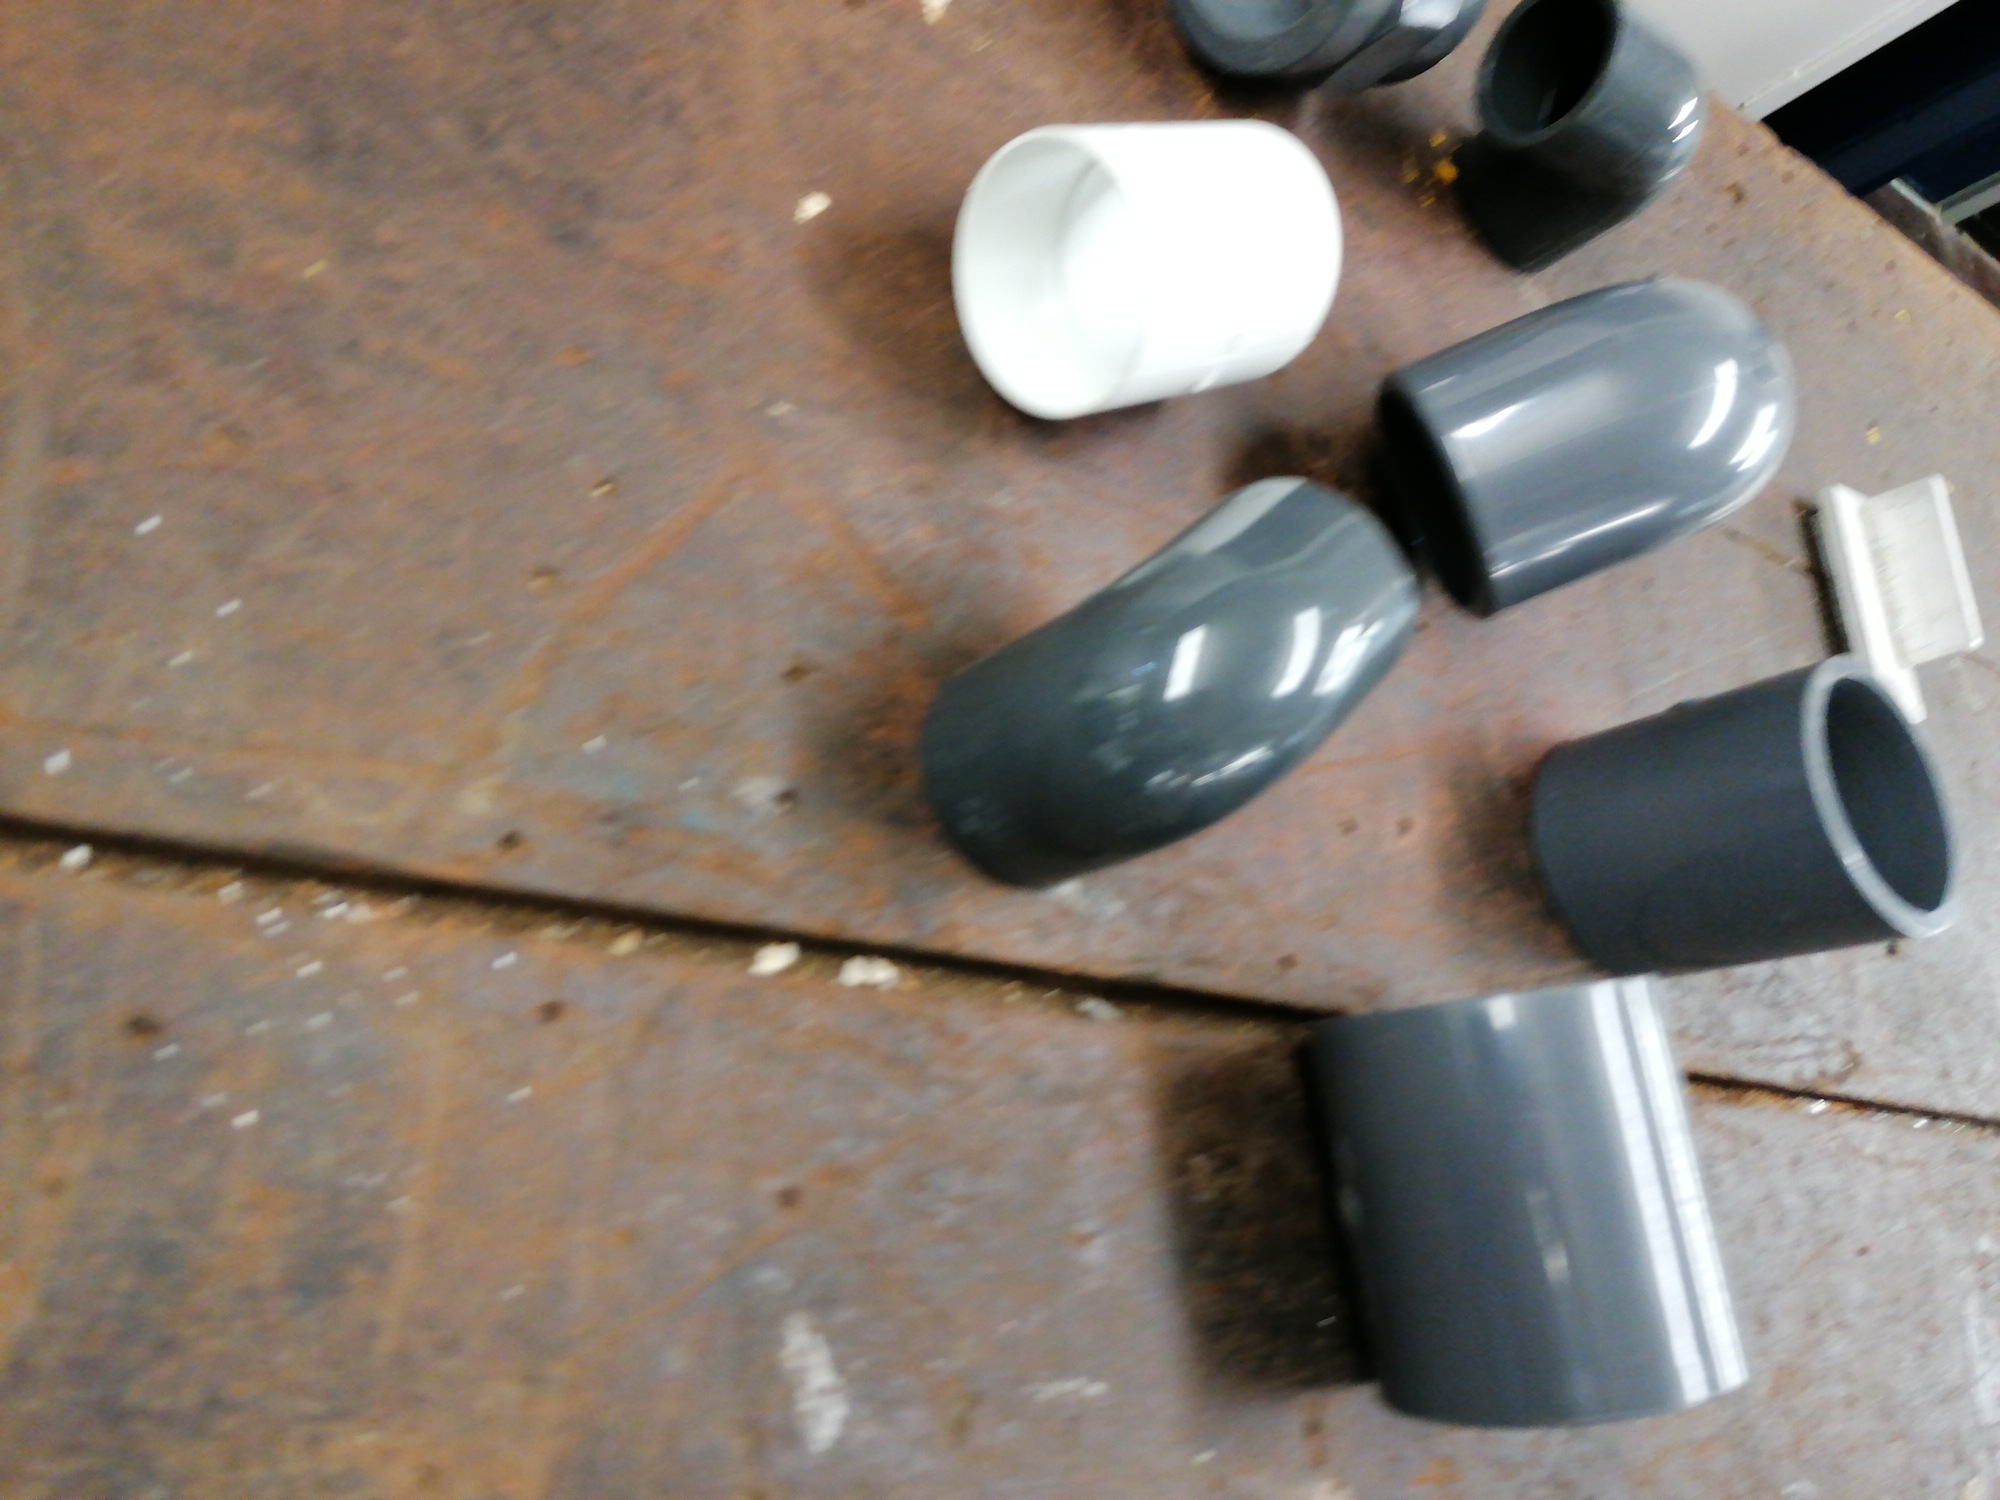nut: (1161, 2, 1490, 101)
pipe: (920, 474, 1424, 890), (1301, 974, 1756, 1432), (1375, 274, 1800, 618), (1529, 648, 1962, 974), (950, 112, 1346, 425), (1439, 3, 1706, 271)
